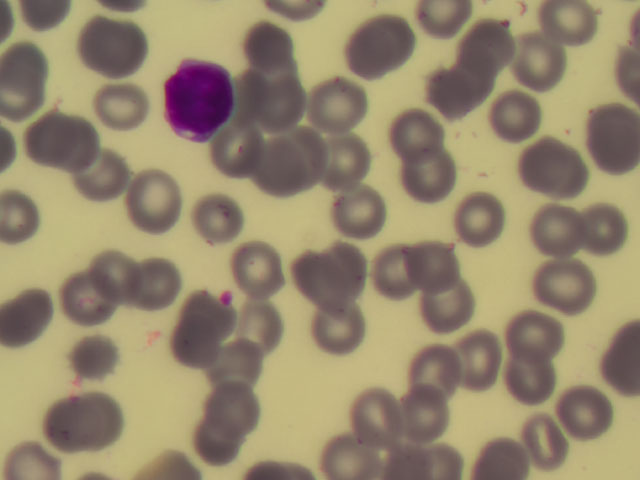RBC: (80, 17, 145, 78), (87, 77, 152, 138), (32, 104, 97, 165), (71, 147, 136, 208), (114, 165, 179, 226), (178, 183, 243, 244), (163, 297, 228, 358), (123, 252, 188, 313), (89, 248, 154, 309), (57, 269, 122, 330), (56, 315, 121, 376), (69, 393, 134, 454), (188, 410, 253, 471), (207, 378, 272, 439), (207, 340, 272, 401), (236, 296, 301, 357), (230, 240, 295, 301), (292, 249, 357, 310), (308, 306, 373, 367), (423, 278, 488, 339), (405, 235, 470, 296), (367, 242, 432, 303), (333, 181, 398, 242), (320, 133, 385, 194), (250, 133, 315, 194), (212, 127, 277, 188), (240, 75, 305, 136), (237, 17, 302, 78), (299, 70, 364, 131), (340, 18, 405, 79), (424, 64, 489, 125), (453, 22, 518, 83), (506, 35, 571, 96), (534, 4, 599, 65), (480, 90, 545, 151), (385, 101, 450, 162), (405, 147, 470, 208), (443, 193, 508, 254), (521, 138, 586, 199), (522, 207, 587, 268), (570, 196, 635, 257), (538, 259, 603, 320), (505, 303, 570, 364), (501, 343, 566, 404), (451, 330, 516, 391), (404, 341, 469, 402), (394, 384, 459, 445), (341, 385, 406, 446), (473, 419, 538, 480), (519, 411, 584, 472), (555, 383, 620, 444), (575, 109, 640, 170), (29, 397, 94, 458), (1, 41, 65, 102), (1, 271, 65, 332)
WBC: (159, 55, 236, 145)
